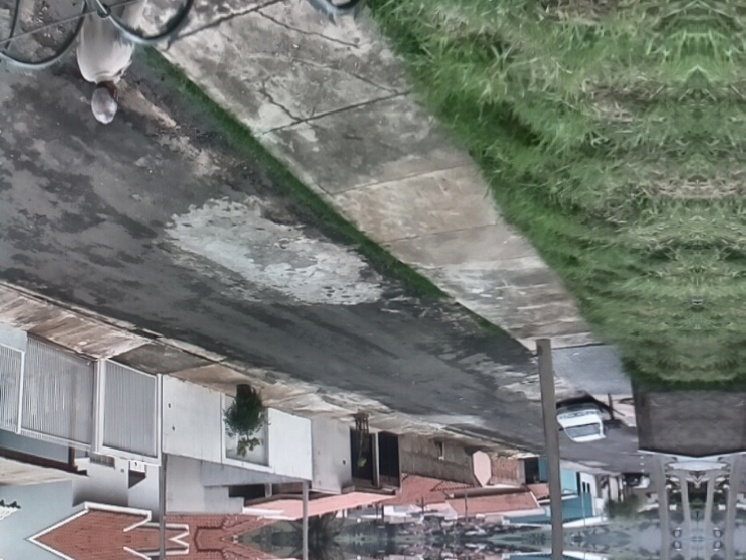person: (74, 0, 159, 125)
